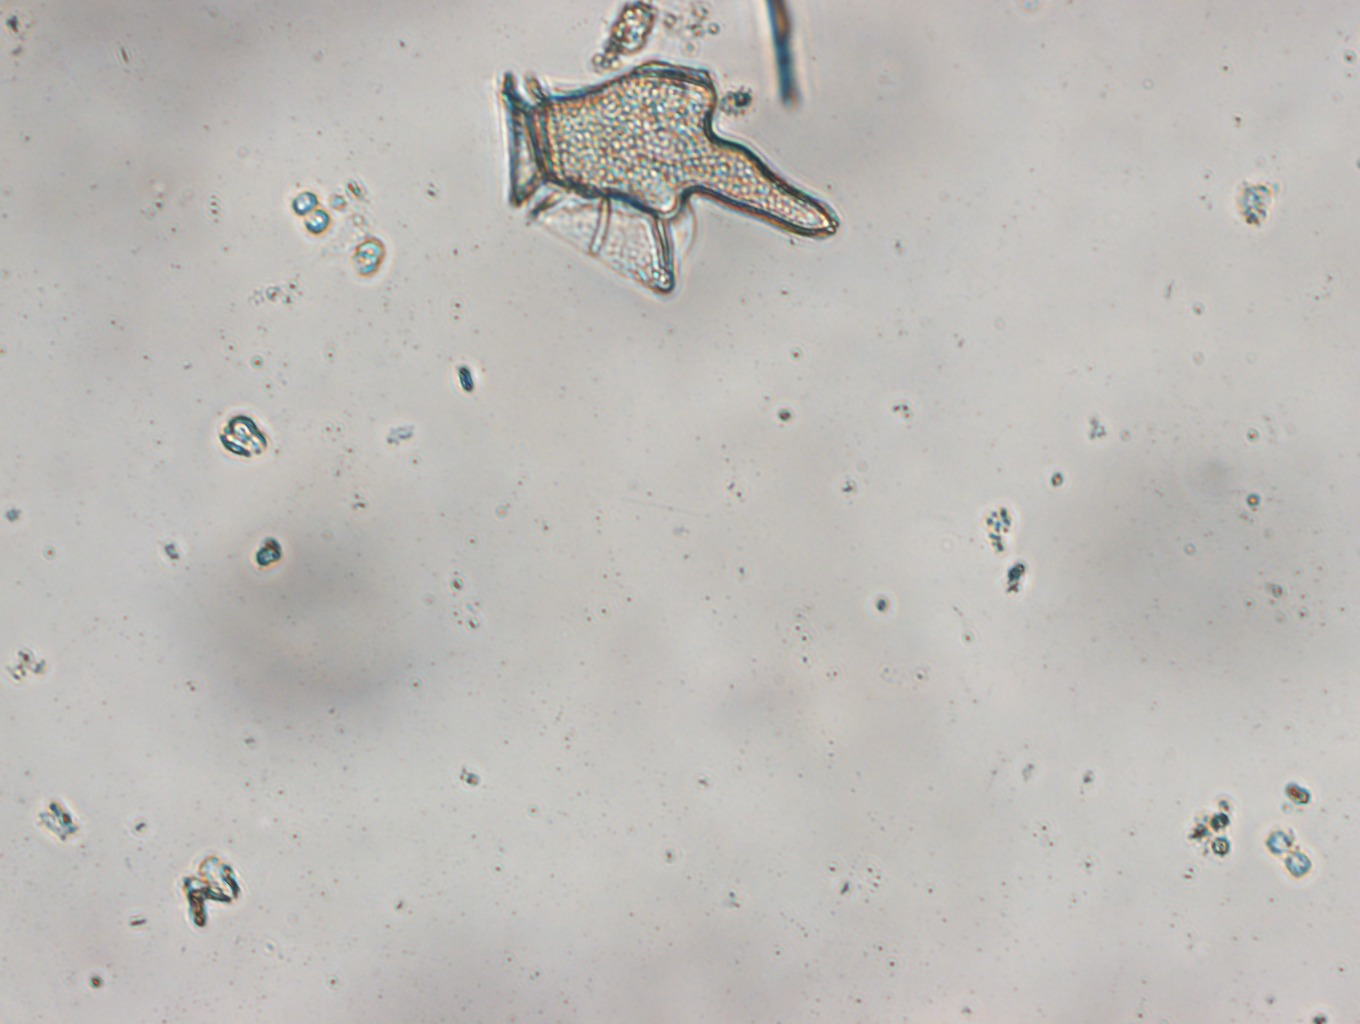dinophysis caudata: (483, 48, 843, 302)
